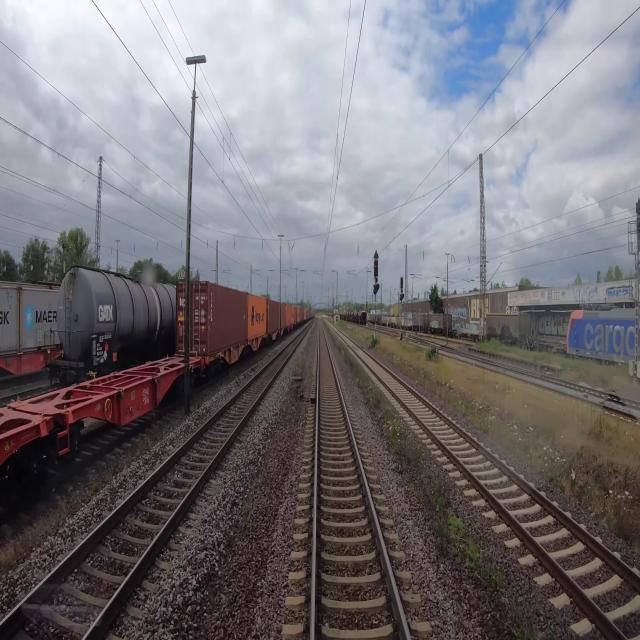Plant: (339, 345, 541, 639), (241, 499, 250, 524)
